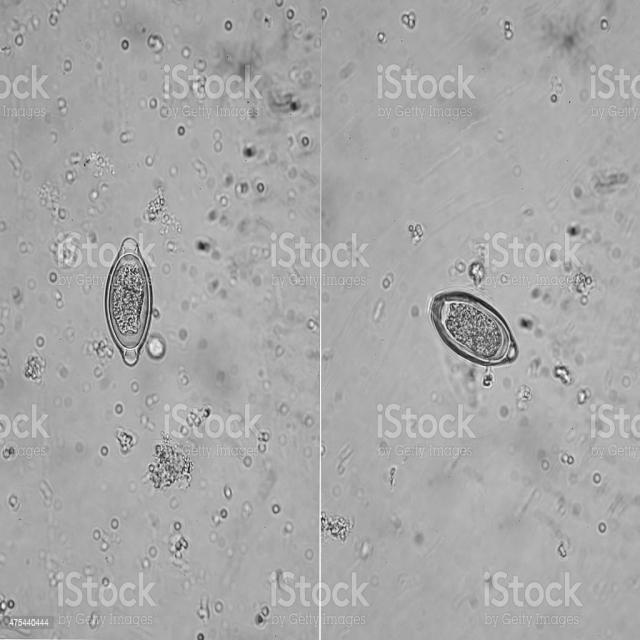Trichuris Trichiura: (423, 287, 525, 371), (102, 232, 154, 371)
